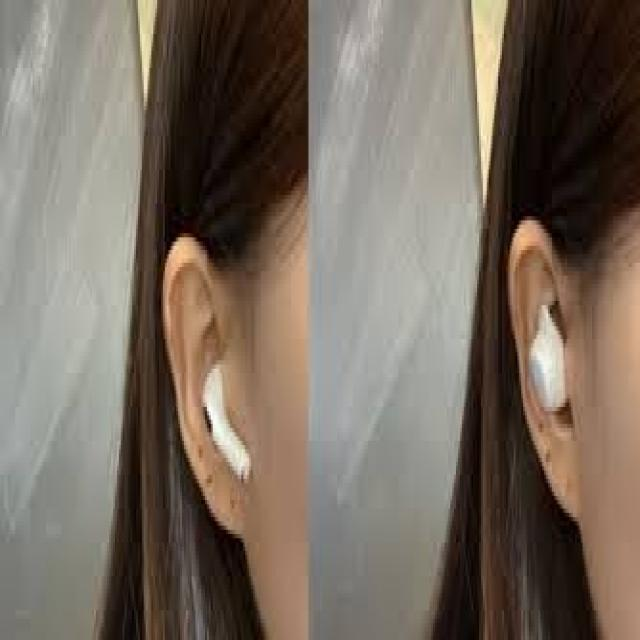earphone: (187, 357, 273, 493), (513, 292, 585, 418)
